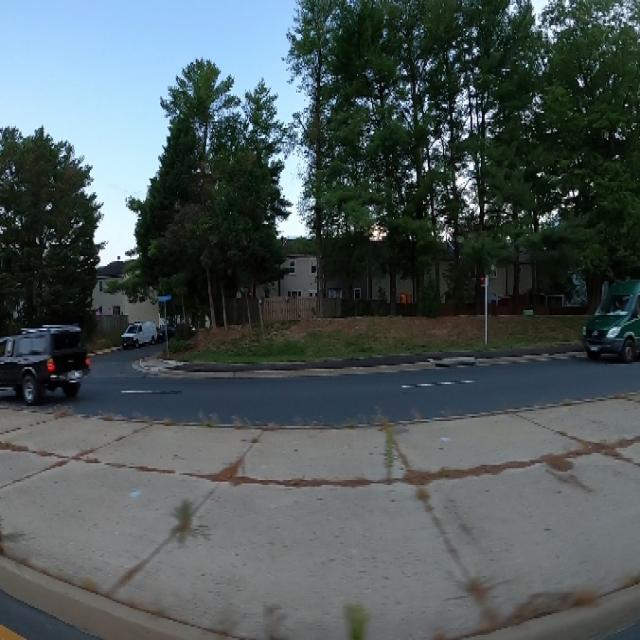car: (0, 317, 94, 406), (581, 266, 640, 361), (121, 310, 155, 357)
